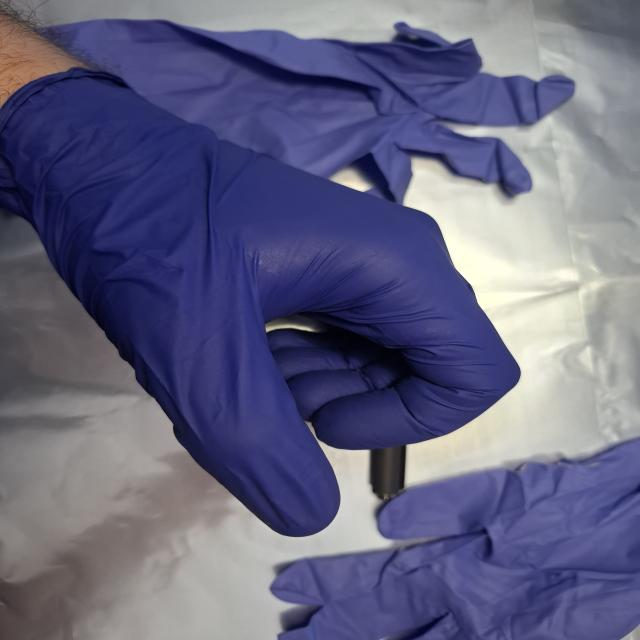glove_on: (0, 64, 528, 542)
